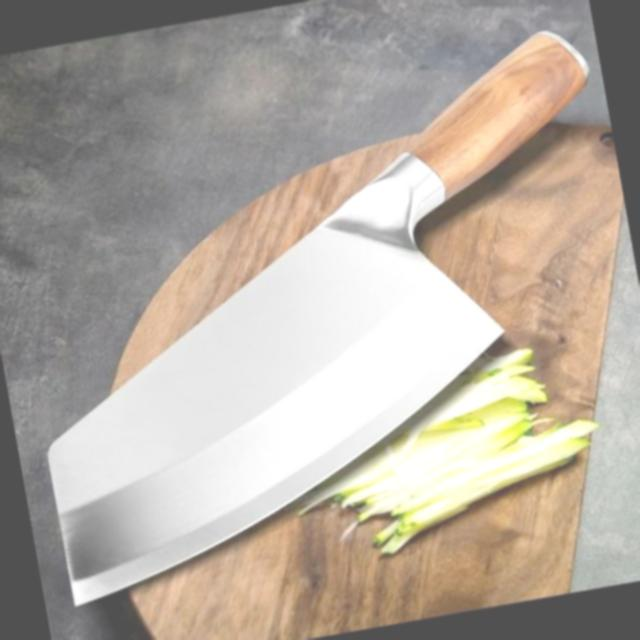cleaver: (0, 22, 640, 614)
